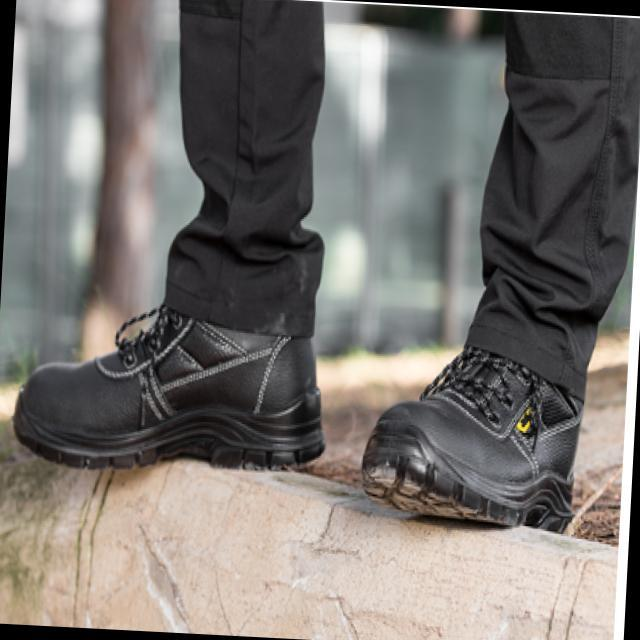shoes: (7, 222, 606, 537)
